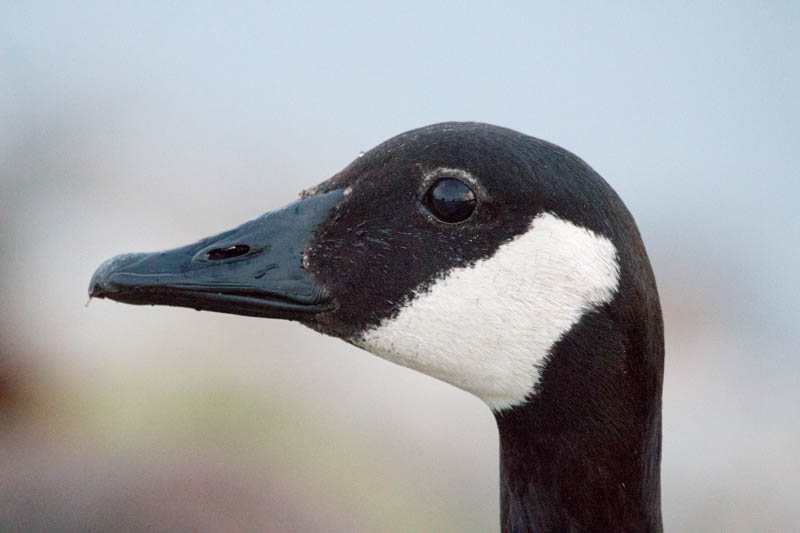goose-head: (87, 121, 664, 413)
